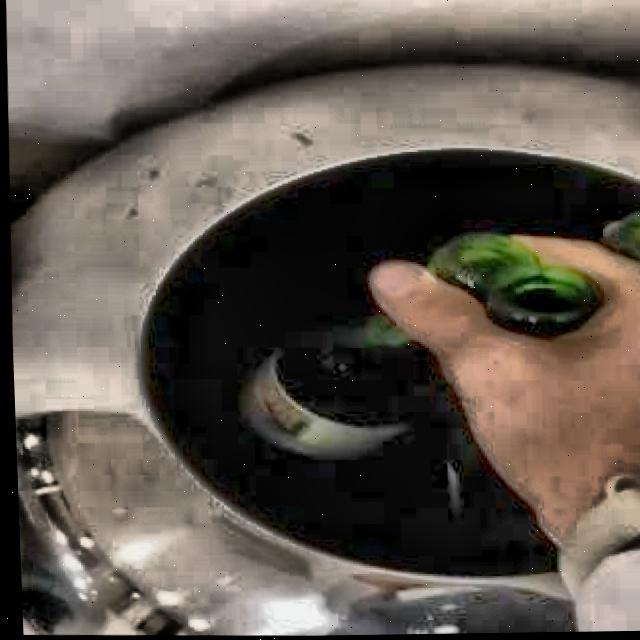glass: (245, 318, 429, 459), (428, 236, 604, 341), (434, 399, 537, 539), (606, 215, 640, 253)
